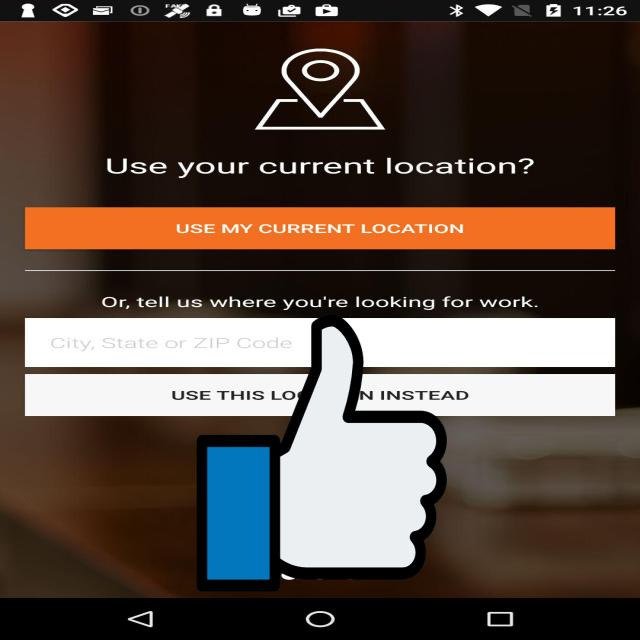privacy zuckering: (197, 308, 447, 598)
